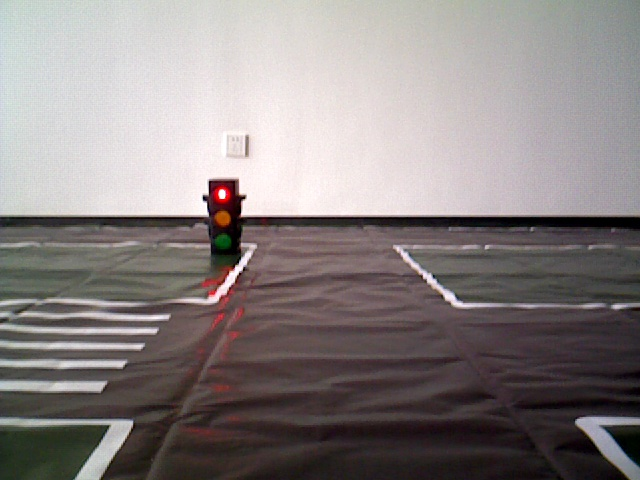red: (210, 179, 239, 258)
